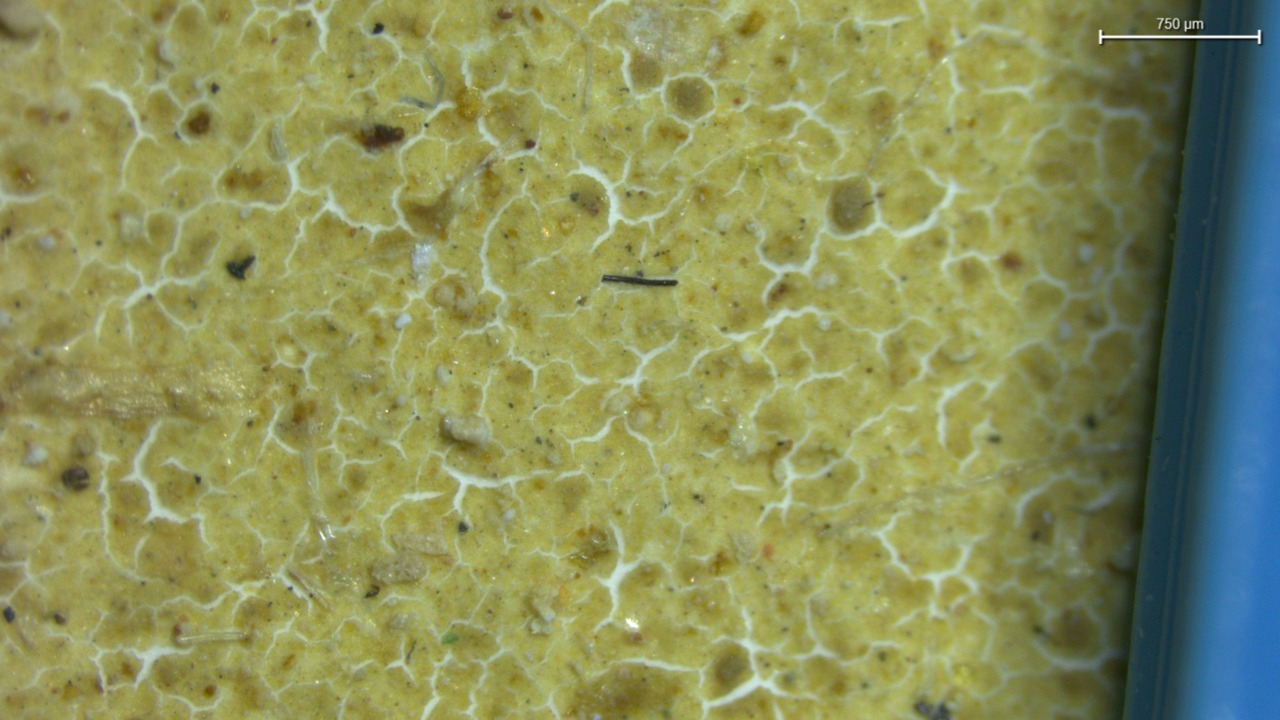microplastic_fragment: (439, 413, 491, 448)
